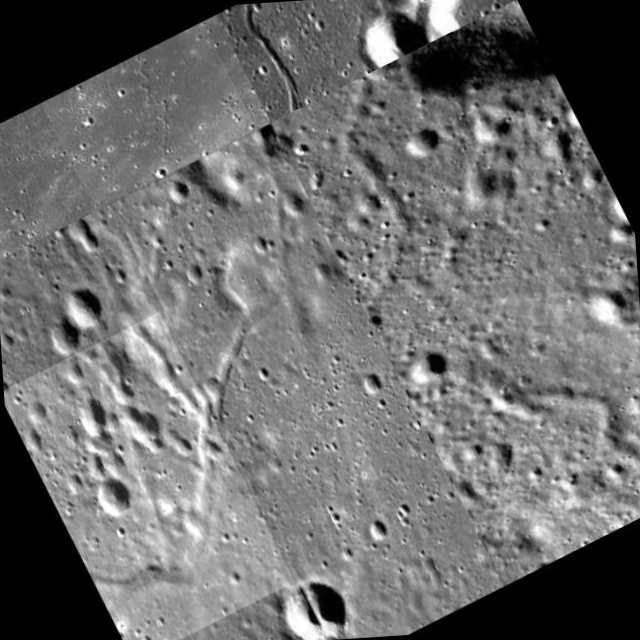crater: (283, 40, 640, 574), (0, 301, 278, 640), (55, 14, 269, 195), (240, 0, 407, 117)
